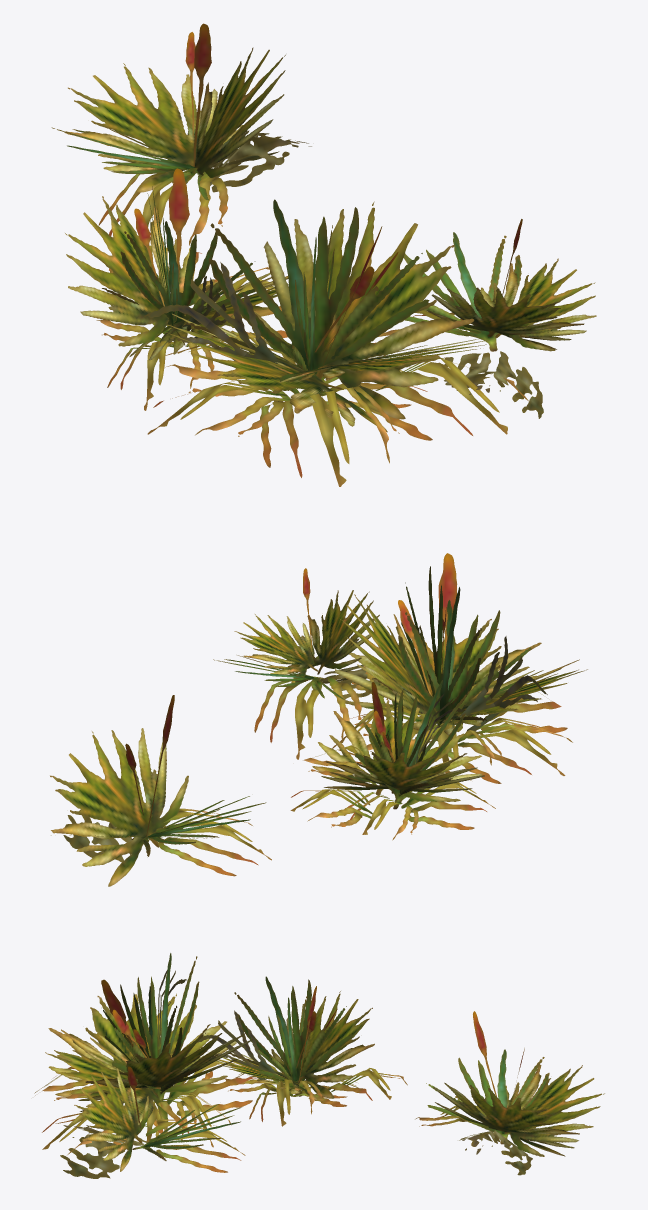
The model's file is S_Tree_Yellow052.FBX.
The picture shows the model from 3 angles, top to bottom: view 1: azimuth 30°, elevation 25°; view 2: azimuth 150°, elevation 25°; view 3: azimuth 270°, elevation 25°; orthographic projection. The views are drawn at different scales.
Parts seen in each view (by area): view 1: S_Tree_Yellow052; view 2: S_Tree_Yellow052; view 3: S_Tree_Yellow052.
Boxes of the visible parts, box(x1,y1,x2,y2) form: S_Tree_Yellow052: box(51, 23, 596, 486); S_Tree_Yellow052: box(50, 553, 587, 886); S_Tree_Yellow052: box(34, 953, 604, 1178).
Size of the model in its own units: 210 by 351 by 108.
